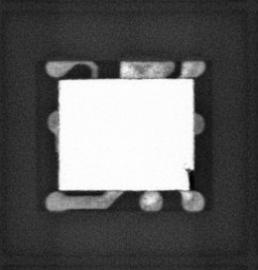DIE_BROKEN: (184, 166, 195, 190)
